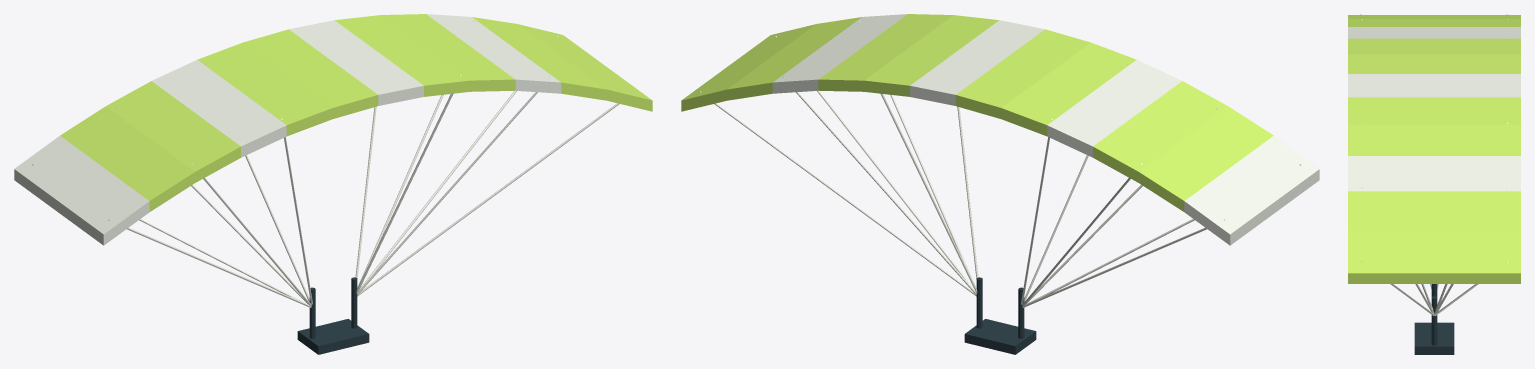
The model's file is parachute.glb.
The picture shows the model from 3 angles, left to right: view 1: azimuth 30°, elevation 25°; view 2: azimuth 150°, elevation 25°; view 3: azimuth 270°, elevation 25°; orthographic projection. The views are drawn at different scales.
Visible parts, largest first — view 1: Parachute cell 00, Parachute cell 01, Parachute cell 02, Parachute cell 03, Parachute cell 04, Parachute cell 05, Parachute cell 06, Parachute cell 07, Parachute cell 08, Parachute cell 09, Parachute cell 10, Parachute cell 11 (+9 smaller); view 2: Parachute cell 00, Parachute cell 01, Parachute cell 02, Parachute cell 03, Parachute cell 04, Parachute cell 05, Parachute cell 06, Parachute cell 07, Parachute cell 08, Parachute cell 09, Parachute cell 10, Parachute cell 11 (+9 smaller); view 3: Parachute cell 11, Parachute cell 10, Parachute cell 09, Parachute cell 08, Parachute cell 07, Parachute cell 06, Parachute cell 05, Parachute cell 04, Parachute cell 03, Parachute cell 02, Parachute seat, Parachute cell 01 (+1 smaller).
Part boxes in pixels (left/top/right/bottom): Parachute cell 00: left=14, top=136, right=149, bottom=245; Parachute cell 01: left=60, top=106, right=195, bottom=211; Parachute cell 02: left=106, top=81, right=240, bottom=182; Parachute cell 03: left=152, top=60, right=286, bottom=157; Parachute cell 04: left=197, top=42, right=332, bottom=136; Parachute cell 05: left=243, top=29, right=378, bottom=118; Parachute cell 06: left=289, top=20, right=423, bottom=105; Parachute cell 07: left=335, top=15, right=469, bottom=96; Parachute cell 08: left=380, top=14, right=515, bottom=91; Parachute cell 09: left=426, top=14, right=561, bottom=93; Parachute cell 10: left=472, top=17, right=606, bottom=100; Parachute cell 11: left=518, top=24, right=652, bottom=111; Parachute cell 00: left=1184, top=136, right=1319, bottom=245; Parachute cell 01: left=1138, top=106, right=1273, bottom=211; Parachute cell 02: left=1093, top=81, right=1227, bottom=182; Parachute cell 03: left=1047, top=60, right=1181, bottom=157; Parachute cell 04: left=1001, top=42, right=1136, bottom=136; Parachute cell 05: left=955, top=29, right=1090, bottom=118; Parachute cell 06: left=910, top=20, right=1044, bottom=105; Parachute cell 07: left=864, top=15, right=998, bottom=96; Parachute cell 08: left=818, top=14, right=953, bottom=91; Parachute cell 09: left=772, top=14, right=907, bottom=93; Parachute cell 10: left=727, top=17, right=861, bottom=100; Parachute cell 11: left=681, top=24, right=815, bottom=111; Parachute cell 11: left=1348, top=230, right=1520, bottom=283; Parachute cell 10: left=1348, top=191, right=1520, bottom=230; Parachute cell 09: left=1348, top=156, right=1520, bottom=191; Parachute cell 08: left=1348, top=124, right=1520, bottom=155; Parachute cell 07: left=1348, top=97, right=1520, bottom=124; Parachute cell 06: left=1348, top=74, right=1520, bottom=97; Parachute cell 05: left=1348, top=54, right=1520, bottom=73; Parachute cell 04: left=1348, top=38, right=1520, bottom=54; Parachute cell 03: left=1348, top=27, right=1520, bottom=38; Parachute cell 02: left=1348, top=19, right=1520, bottom=26; Parachute seat: left=1414, top=322, right=1454, bottom=354; Parachute cell 01: left=1348, top=15, right=1520, bottom=18.
Bounding box in the file's own units: 9.2 × 4.47 × 2.6.
